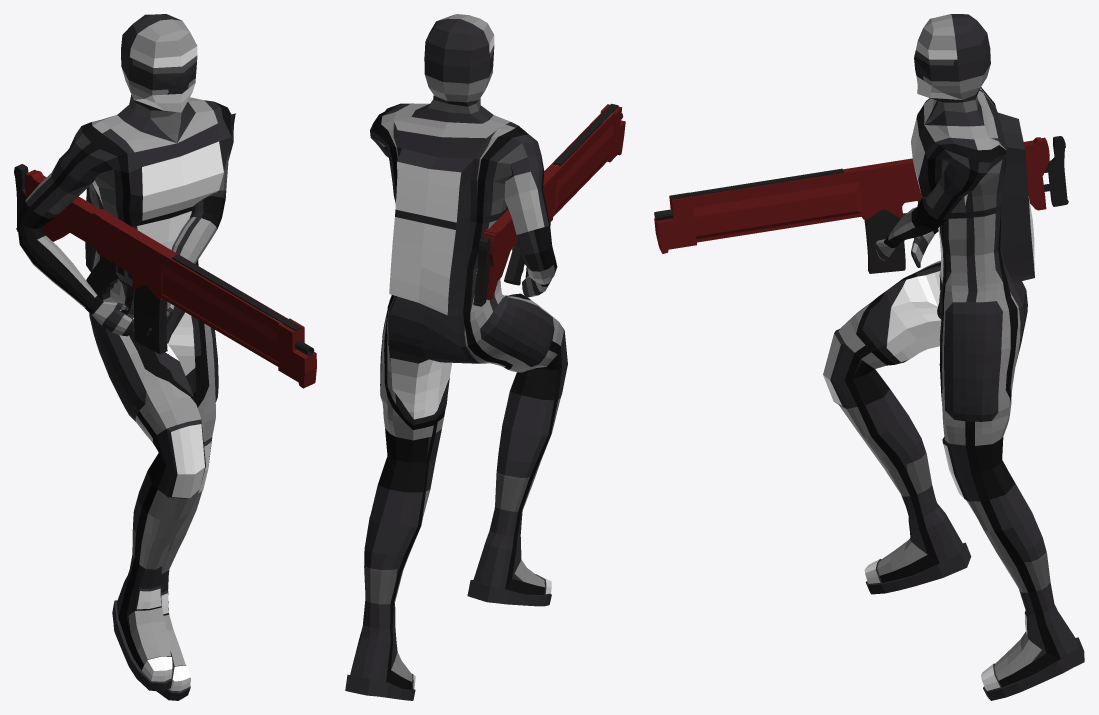
Rendered from SCR2.obj.
3 views of the same model, side by side, from view 1: azimuth 30°, elevation 25°; view 2: azimuth 150°, elevation 25°; view 3: azimuth 270°, elevation 25° (orthographic). The views are drawn at different scales.
Visible parts, largest first — view 1: metarig_object_metarig_mesh, Cube.001; view 2: metarig_object_metarig_mesh, Cube.001; view 3: metarig_object_metarig_mesh, Cube.001.
Boxes of the visible parts, x1=… form: metarig_object_metarig_mesh: x1=17, y1=14, x2=235, y2=700; Cube.001: x1=14, y1=164, x2=316, y2=388; metarig_object_metarig_mesh: x1=345, y1=14, x2=567, y2=700; Cube.001: x1=473, y1=103, x2=625, y2=306; metarig_object_metarig_mesh: x1=823, y1=14, x2=1084, y2=700; Cube.001: x1=654, y1=136, x2=1068, y2=273.
Size of the model in its own units: 0.4718 by 1.59 by 0.9362.
Materials: 2 (2 with a texture image).
